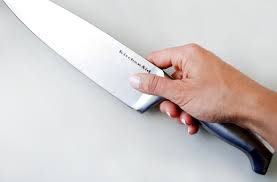knife: (2, 1, 274, 176)
